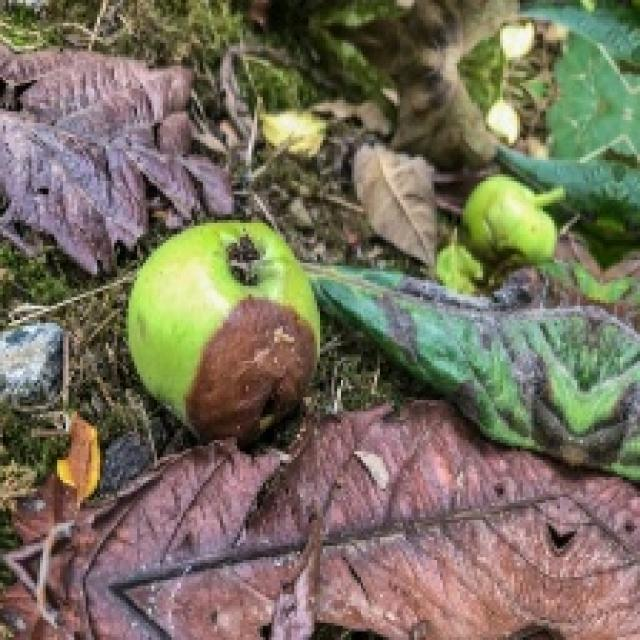rotten_apple: (132, 223, 321, 433)
